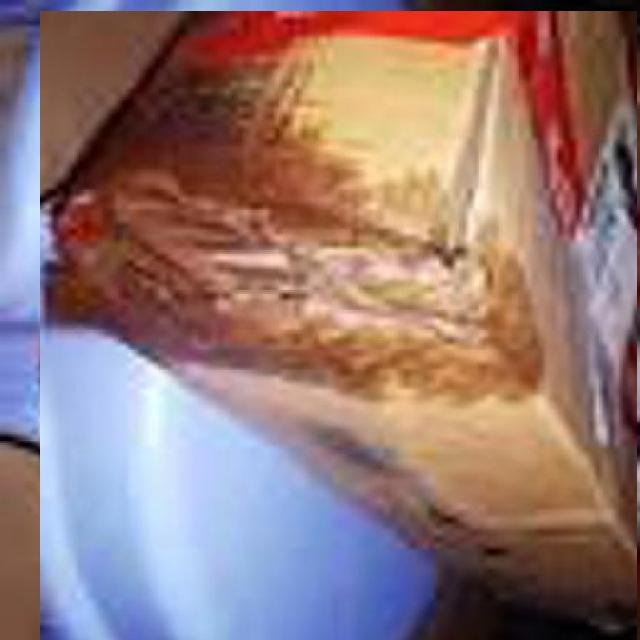defect: (40, 11, 637, 640)
